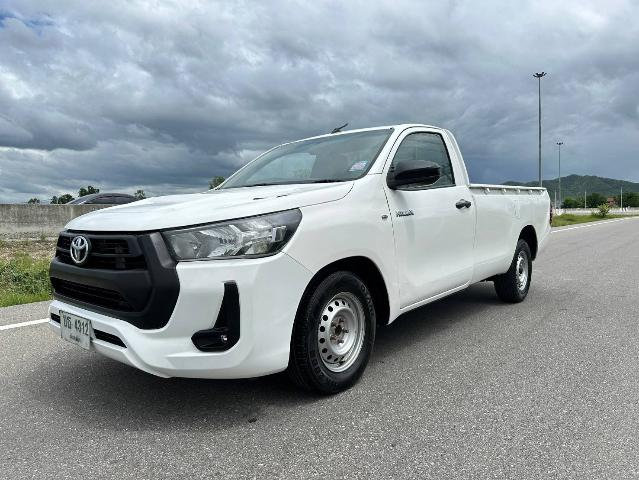pickup-truck: (38, 118, 563, 398)
